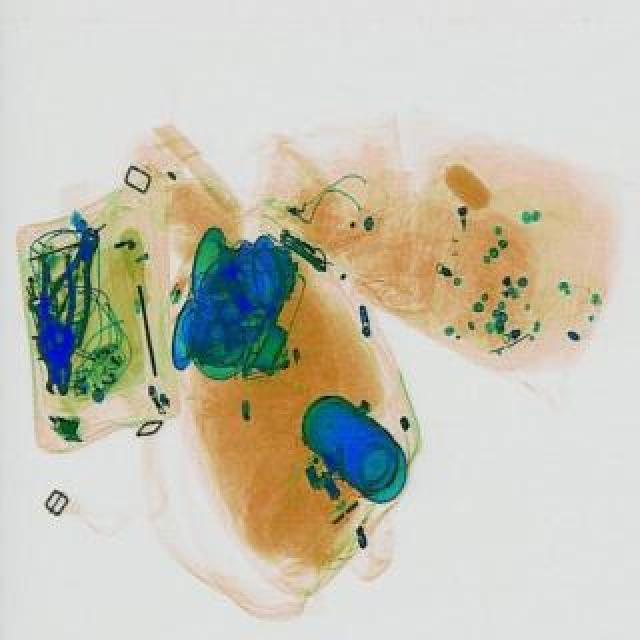scissors: (32, 328, 66, 392)
wrench: (30, 222, 116, 348), (34, 254, 82, 392)
